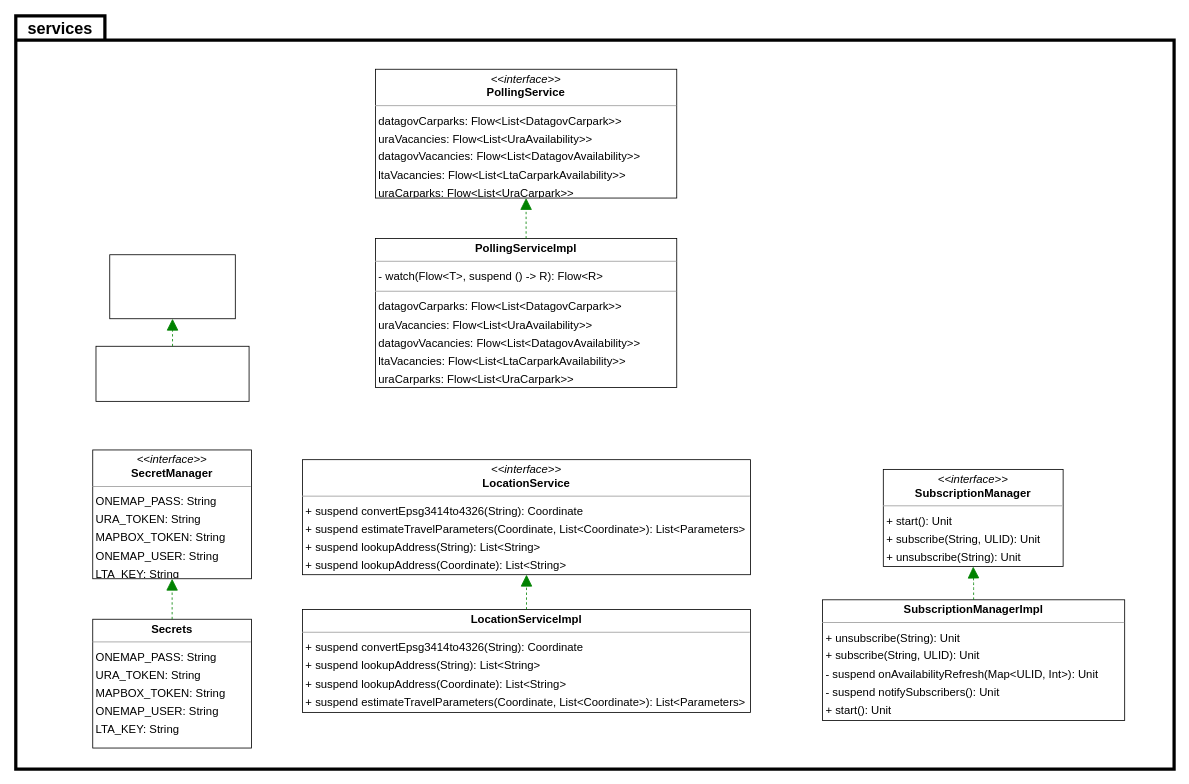
This 1189x784 diagram has some shape labels left out. The box of each missing label's shape, as (x1, y1, x2, y2) in pixels:
<<interface>> DataManager + start(): Unit: (109, 254, 235, 319)
DataManagerImpl + start(): Unit: (95, 345, 249, 401)
